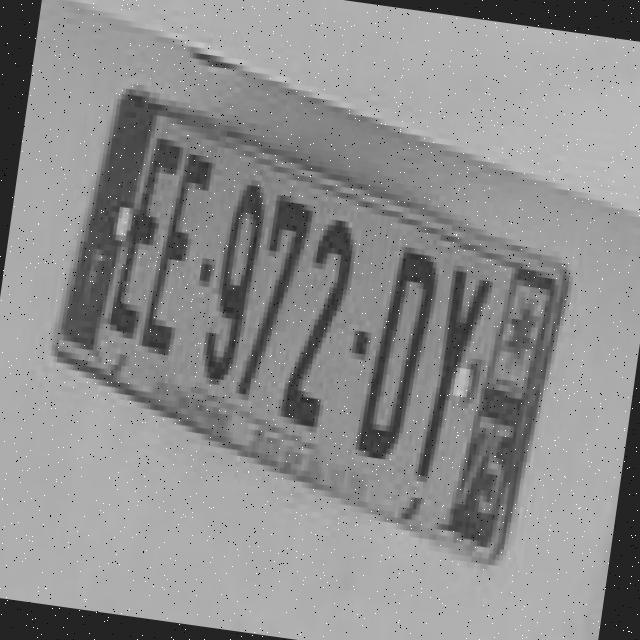EU: (54, 82, 572, 567)
France: (55, 87, 160, 355)
